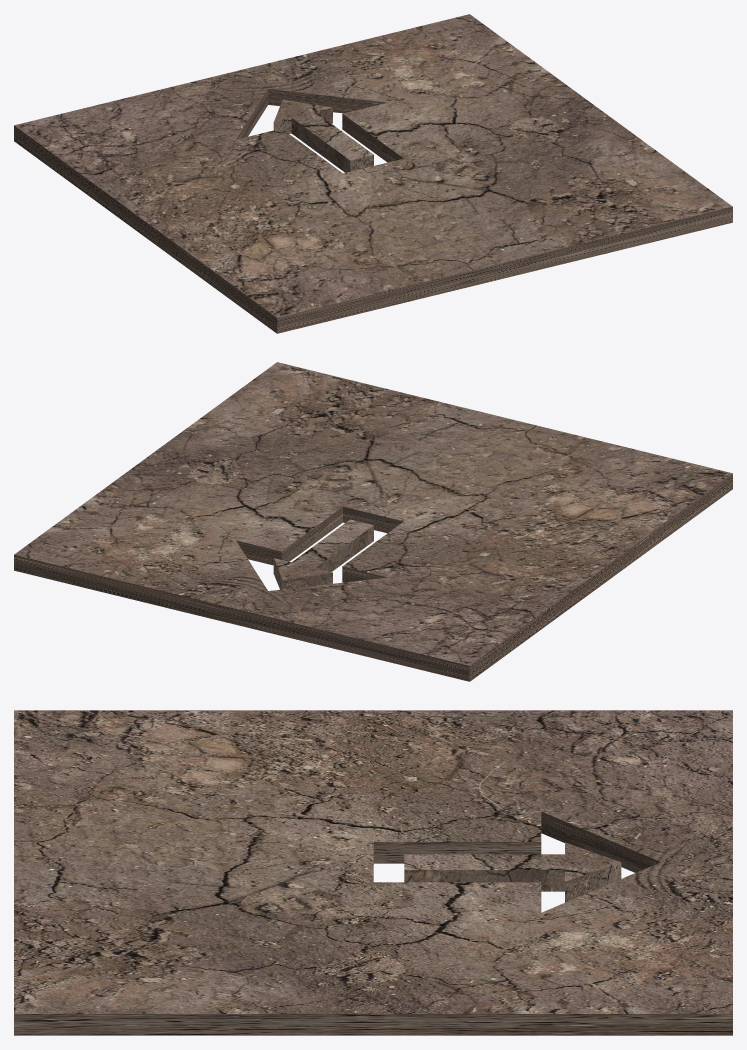
Rendered from ArrowPlane.FBX.
3 renders of one model, top to bottom at view 1: azimuth 30°, elevation 25°; view 2: azimuth 150°, elevation 25°; view 3: azimuth 270°, elevation 25°, orthographic. The views are drawn at different scales.
Visible parts, largest first — view 1: PlaneArrow; view 2: PlaneArrow; view 3: PlaneArrow.
Boxes of the visible parts, x1,y1,x2,y2 form: PlaneArrow: (14,14,732,333); PlaneArrow: (14,362,732,681); PlaneArrow: (14,710,732,1035).
Size of the model in its own units: 300 by 10 by 300.
Materials: 1 (1 with a texture image).
